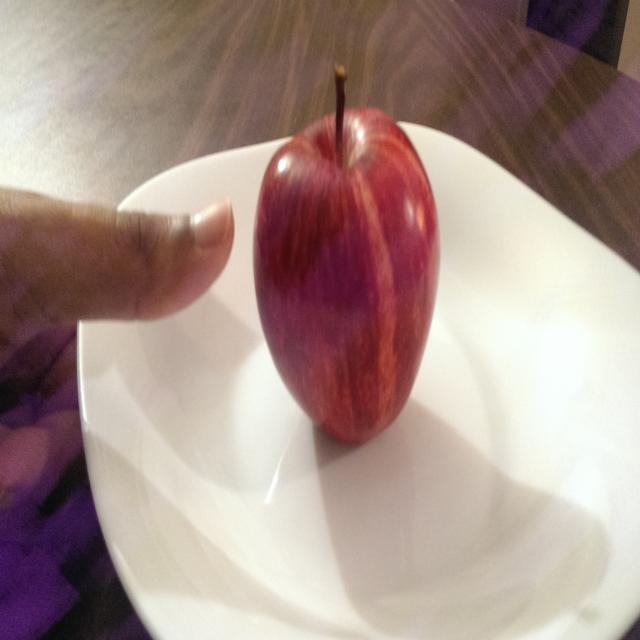apple: (248, 61, 447, 456)
